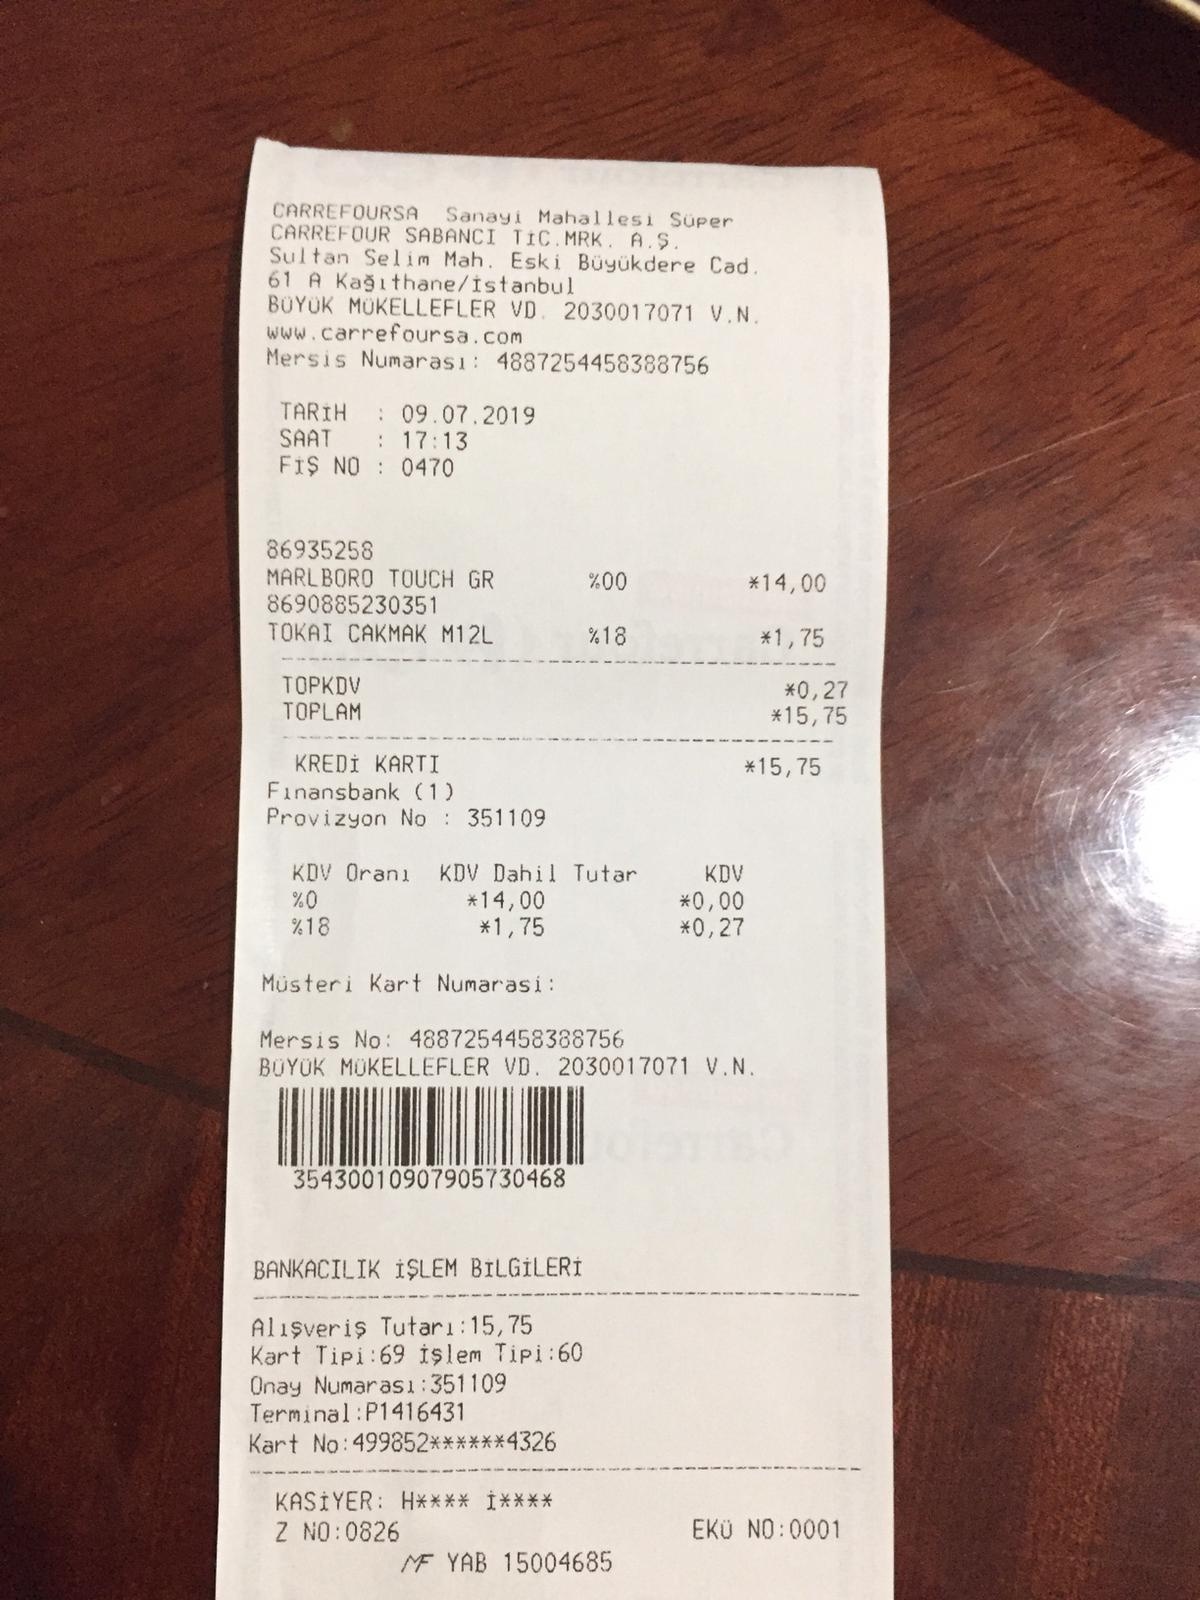total: (279, 694, 858, 730)
